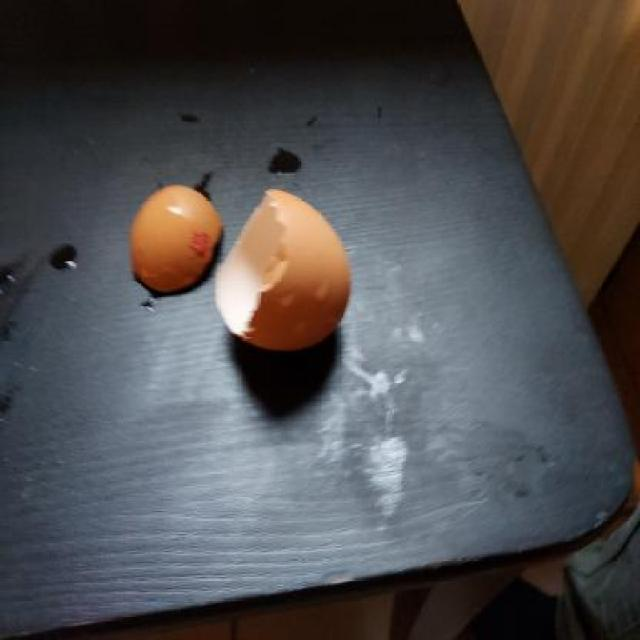biodegradable: (208, 184, 354, 356), (125, 182, 222, 296)
